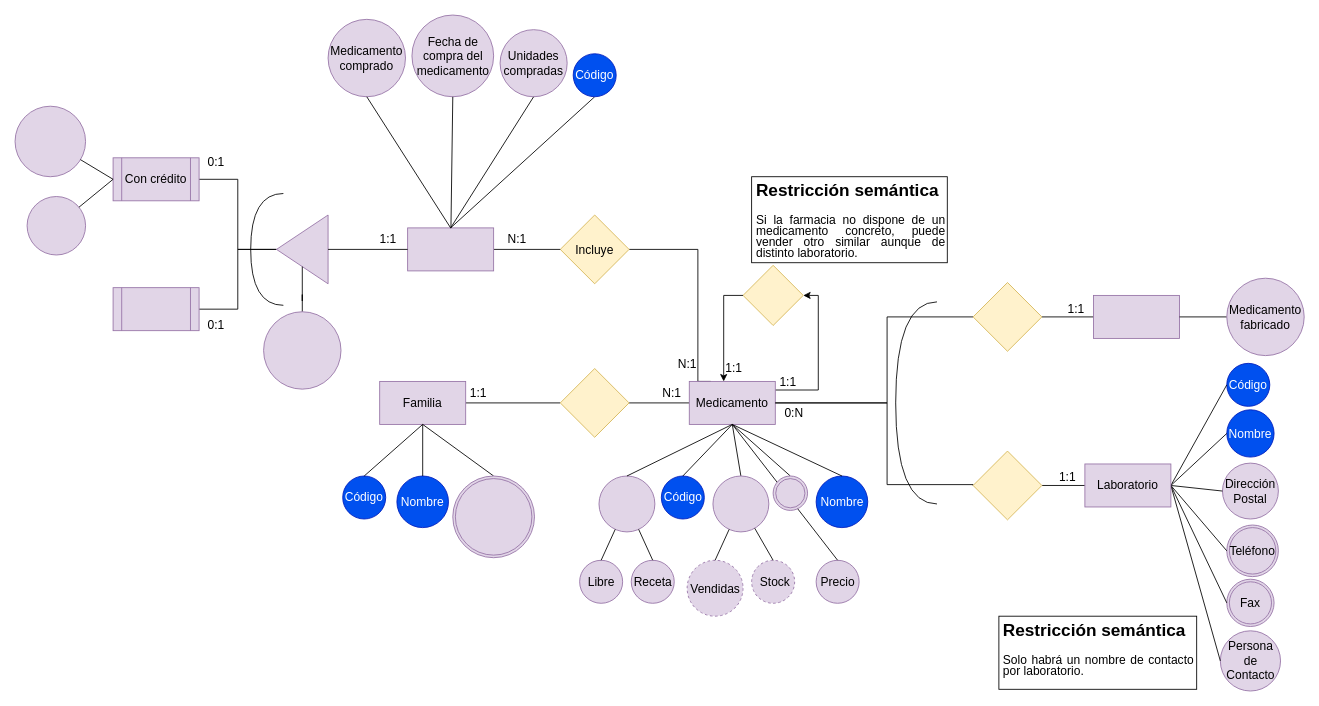
Some shapes in this 1319 by 706 pixel diagram are drawn without their labels. The box of each missing label's shape, as (x1, y1, x2, y2) in pixels:
Agrupan: (559, 368, 629, 437)
Compra: (972, 450, 1042, 520)
Datos bancarios: (26, 196, 86, 255)
Dispensar: (598, 475, 655, 532)
Enfermedad sobre la que aplica: (452, 475, 534, 558)
Fabrica: (972, 282, 1042, 351)
Farmacia: (1093, 295, 1179, 338)
Fecha de Pago de la compra que realizan: (14, 105, 86, 177)
Forma de Pago: (263, 311, 341, 389)
Pedido: (407, 227, 494, 271)
Remplaza: (742, 264, 803, 326)
Sin crédito: (112, 287, 199, 331)
Tipo: (772, 475, 808, 510)
Unidades: (712, 475, 769, 532)
